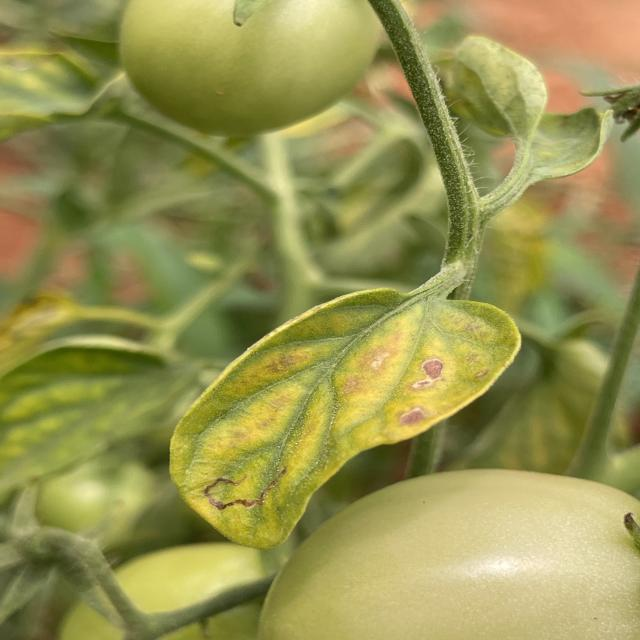tomato_early blight: (159, 275, 523, 560), (0, 326, 167, 501), (440, 34, 610, 188), (0, 40, 130, 140)
